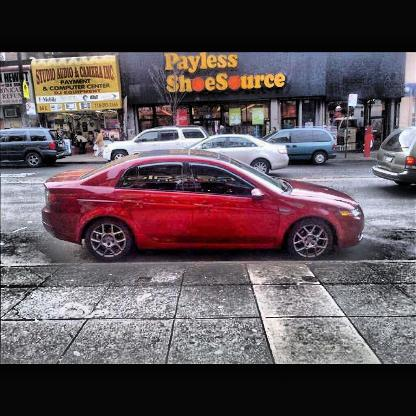Acura TL Type-S 2008: (42, 150, 365, 263)
